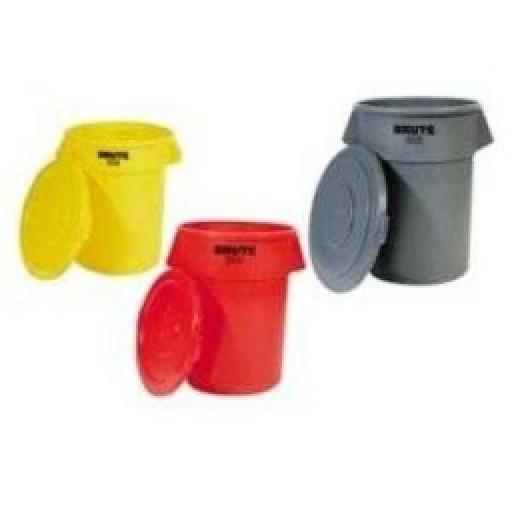trash-can: (305, 75, 504, 315), (130, 214, 308, 412), (0, 98, 184, 284)
